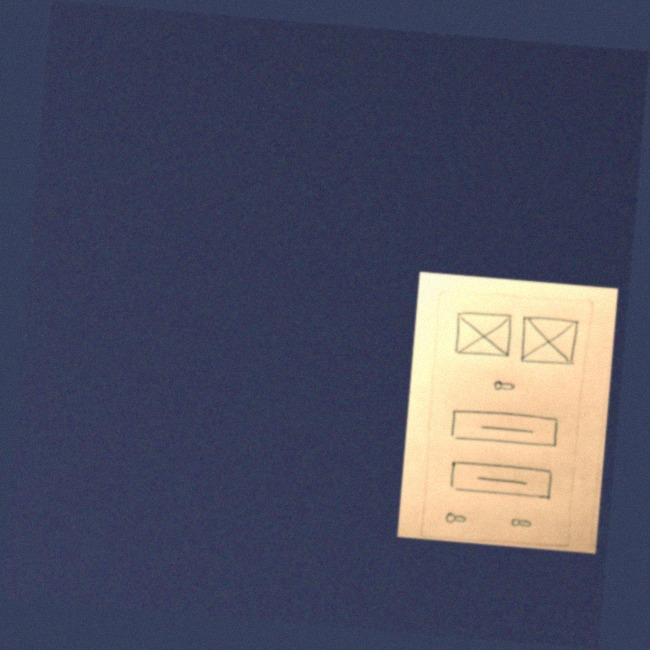button: (446, 402, 565, 455), (443, 457, 564, 505)
image: (517, 314, 583, 369), (450, 308, 519, 360)
switch: (488, 375, 522, 398), (504, 513, 539, 533), (440, 508, 474, 528)
